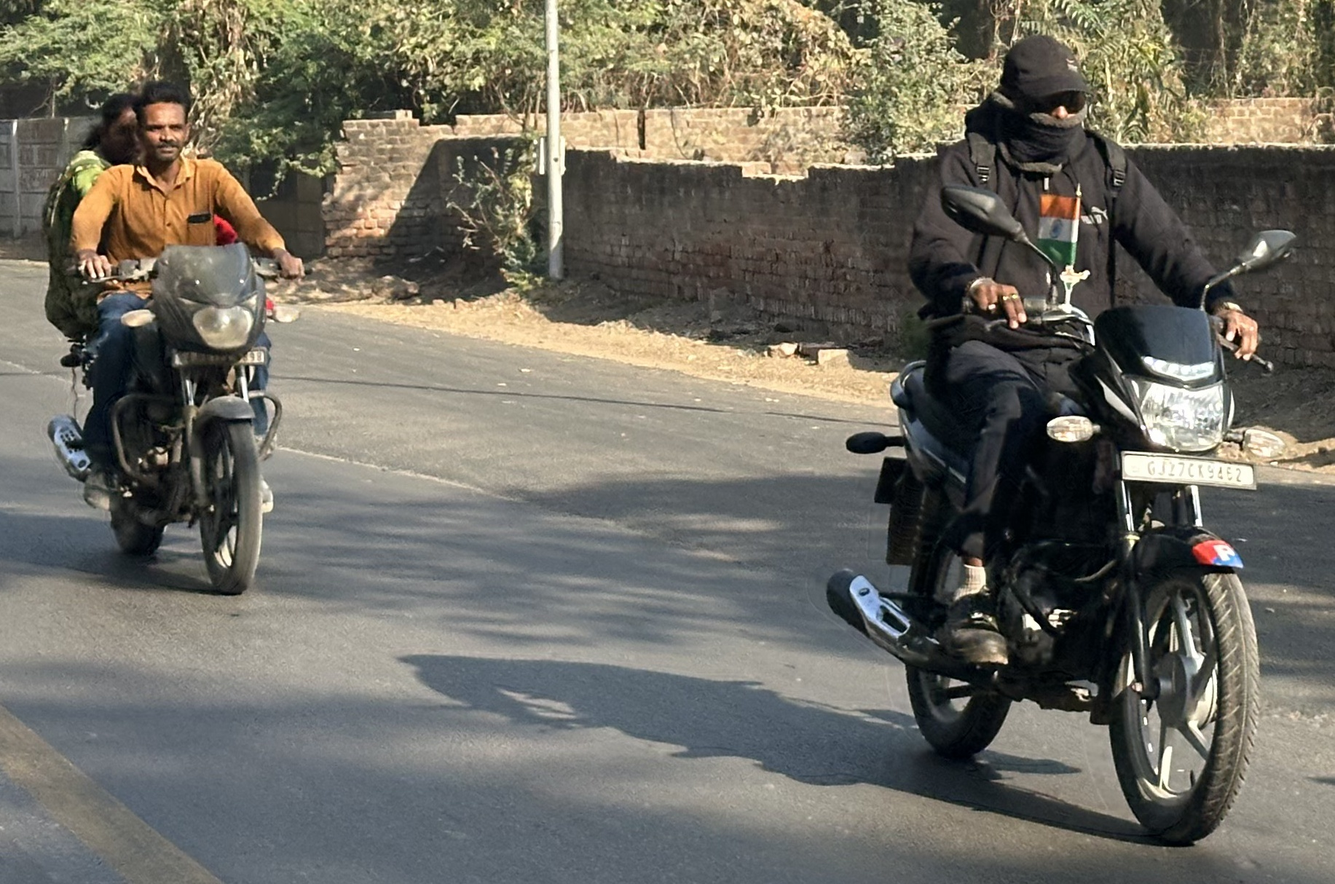BikeWithRider: (816, 32, 1306, 848), (39, 74, 316, 598)
NoHelmet: (990, 31, 1094, 170), (135, 81, 197, 162), (95, 90, 143, 157)
